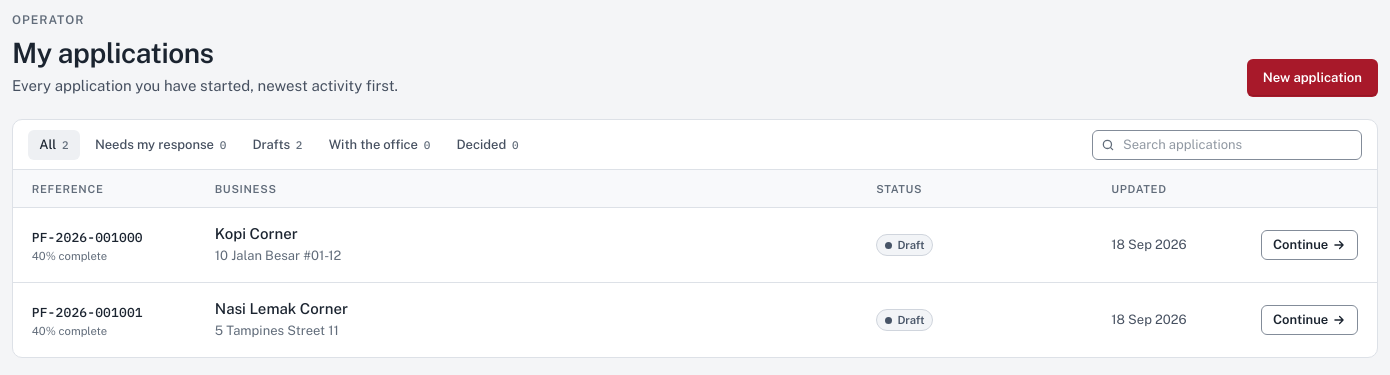
Scenario: ApplicationsPage › searches by reference, business or address and can clear the search
Expected: the text "PF-2026-001001" is shown, [32,304,143,321]
Type "jalan" into the search field named "Search reference".
click(1227, 145); type("jalan")  # box [1092,130,1362,160]
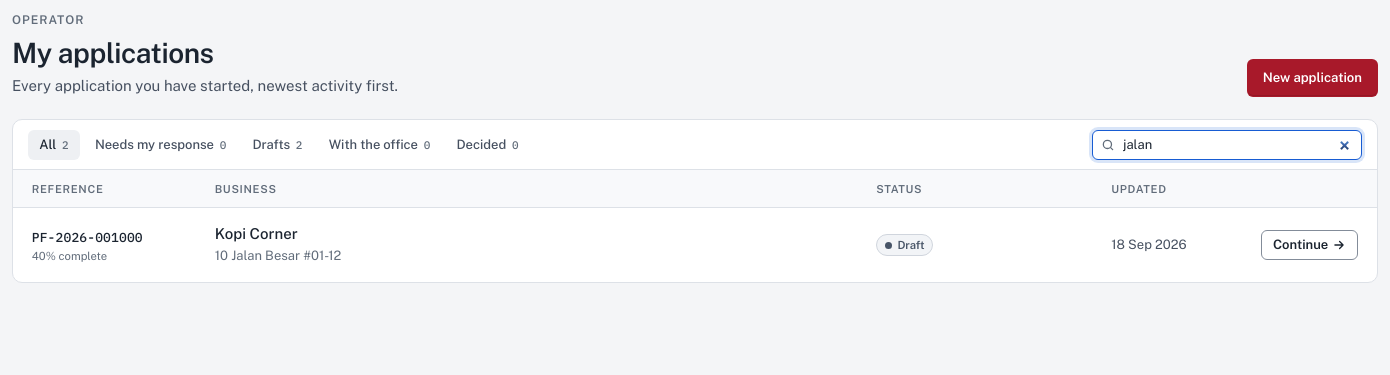
Expected: the text "PF-2026-001000" is shown, [32,229,143,246]
Expected: the link "PF-2026-001001" is gone
Replace the text in the search field named "Search reference" with "001001" at (1227, 145), box [1092,130,1362,160]
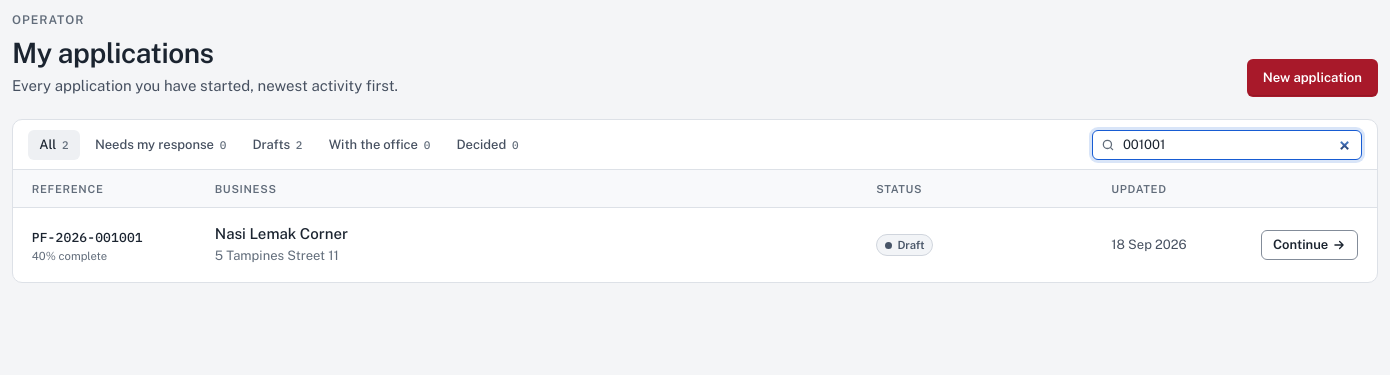
Expected: the text "PF-2026-001001" is shown, [32,229,143,246]
Replace the text in the search field named "Search reference" with "nowhere" at (1227, 145), box [1092,130,1362,160]
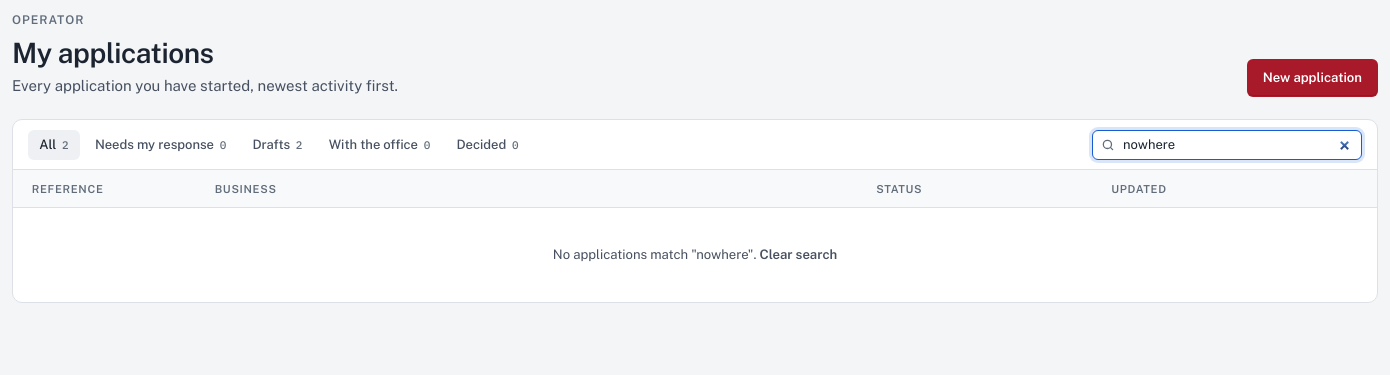
Expected: the text "No applications match \"nowhere\". Clear search" is shown, [553,246,837,264]
Click the button "Clear search".
click(798, 255)  # box [760,246,837,264]
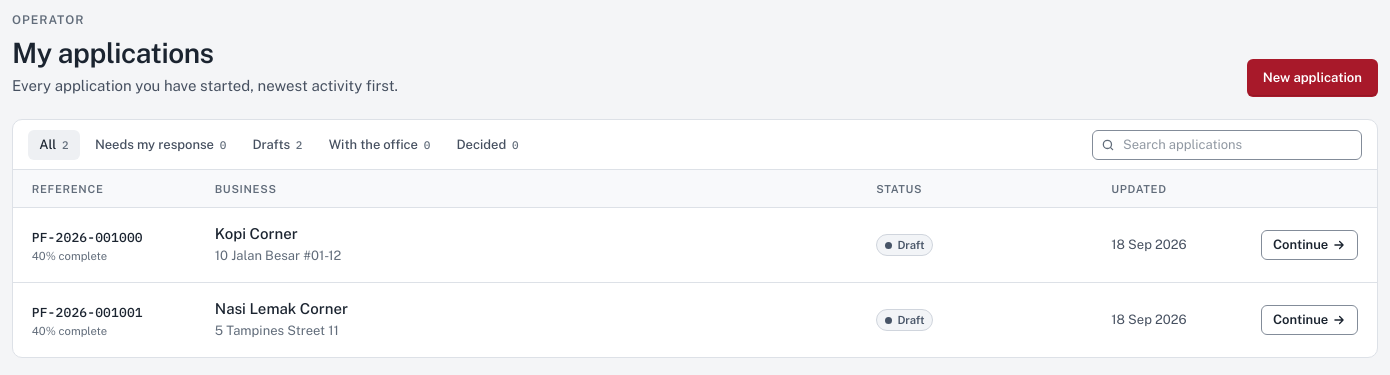
Expected: the text "PF-2026-001000" is shown, [32,229,143,246]
